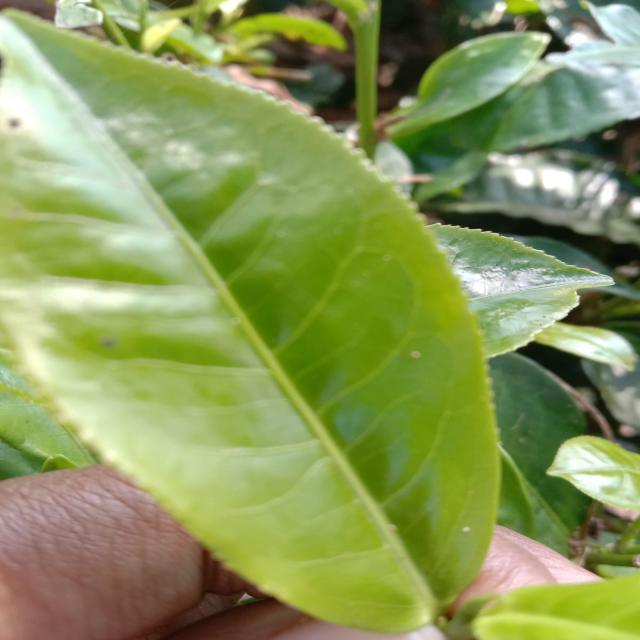Category B 2-4 days: (0, 1, 504, 628)
